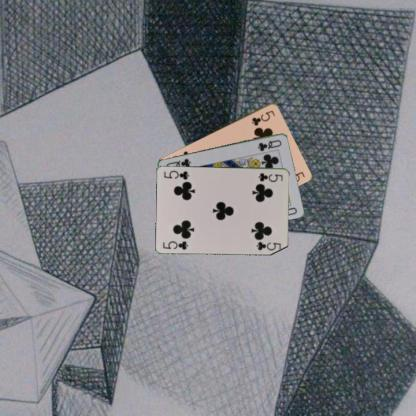5c: (249, 108, 276, 127), (160, 238, 190, 251), (256, 170, 284, 183)
Qc: (256, 137, 283, 152)
